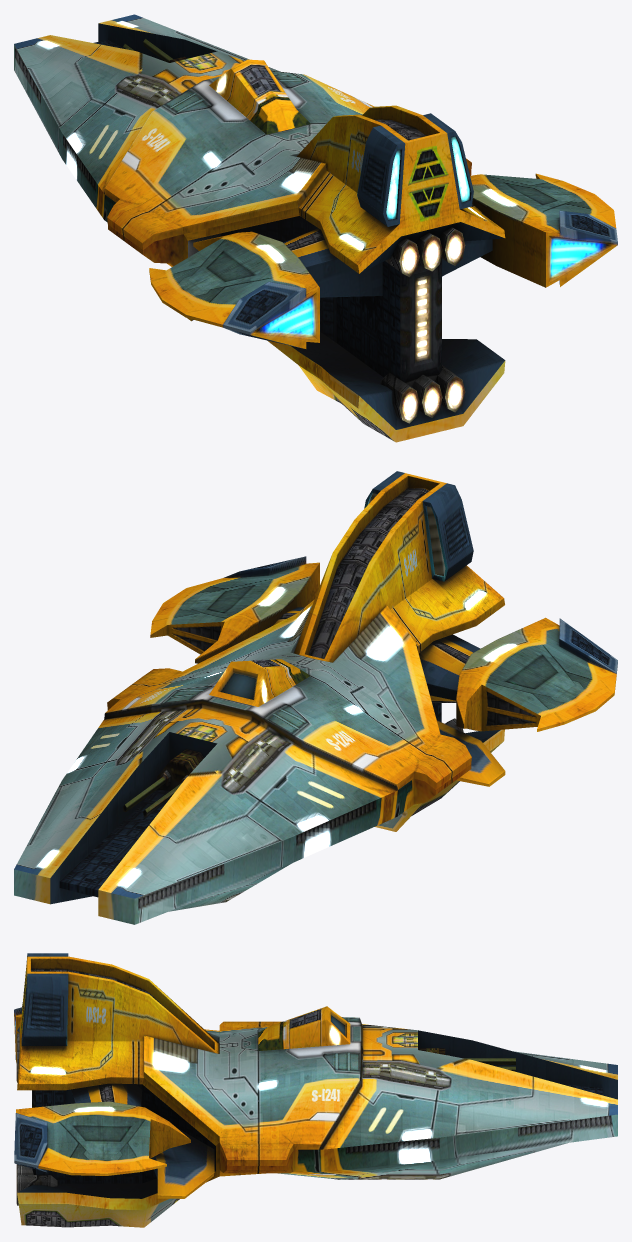
The model's file is npcShip3.glb.
3 renders of one model, top to bottom at view 1: azimuth 30°, elevation 25°; view 2: azimuth 150°, elevation 25°; view 3: azimuth 270°, elevation 25°, orthographic. The views are drawn at different scales.
Parts seen in each view (by area): view 1: Plane.005; view 2: Plane.005; view 3: Plane.005.
Part boxes in pixels (x1,y1,x2,y2): Plane.005: [14, 14, 617, 442]; Plane.005: [14, 471, 617, 924]; Plane.005: [14, 953, 617, 1227].
Size of the model in its own units: 20.61 by 13.36 by 29.69.
1 material, 1 textured.
